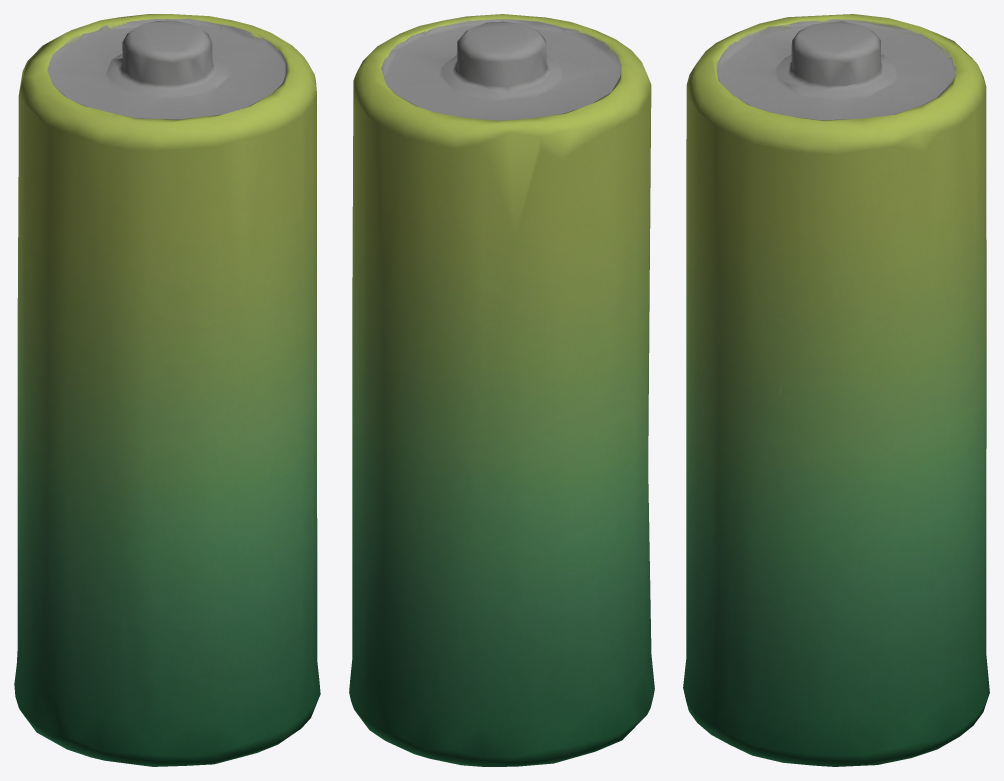
File: energy.glb
3 renders of one model, left to right at view 1: azimuth 30°, elevation 25°; view 2: azimuth 150°, elevation 25°; view 3: azimuth 270°, elevation 25°, orthographic.
Visible parts, largest first — view 1: tripo_node_7fb7e417-9521-4f33-a12e-ebb07a7c49cc; view 2: tripo_node_7fb7e417-9521-4f33-a12e-ebb07a7c49cc; view 3: tripo_node_7fb7e417-9521-4f33-a12e-ebb07a7c49cc.
Part boxes in pixels (x1,y1,x2,y2): tripo_node_7fb7e417-9521-4f33-a12e-ebb07a7c49cc: (14, 14, 320, 766); tripo_node_7fb7e417-9521-4f33-a12e-ebb07a7c49cc: (349, 14, 654, 766); tripo_node_7fb7e417-9521-4f33-a12e-ebb07a7c49cc: (683, 14, 989, 766).
Bounding box in the file's own units: 0.4124 × 1 × 0.4122.
Materials: 1 (1 with a texture image).
